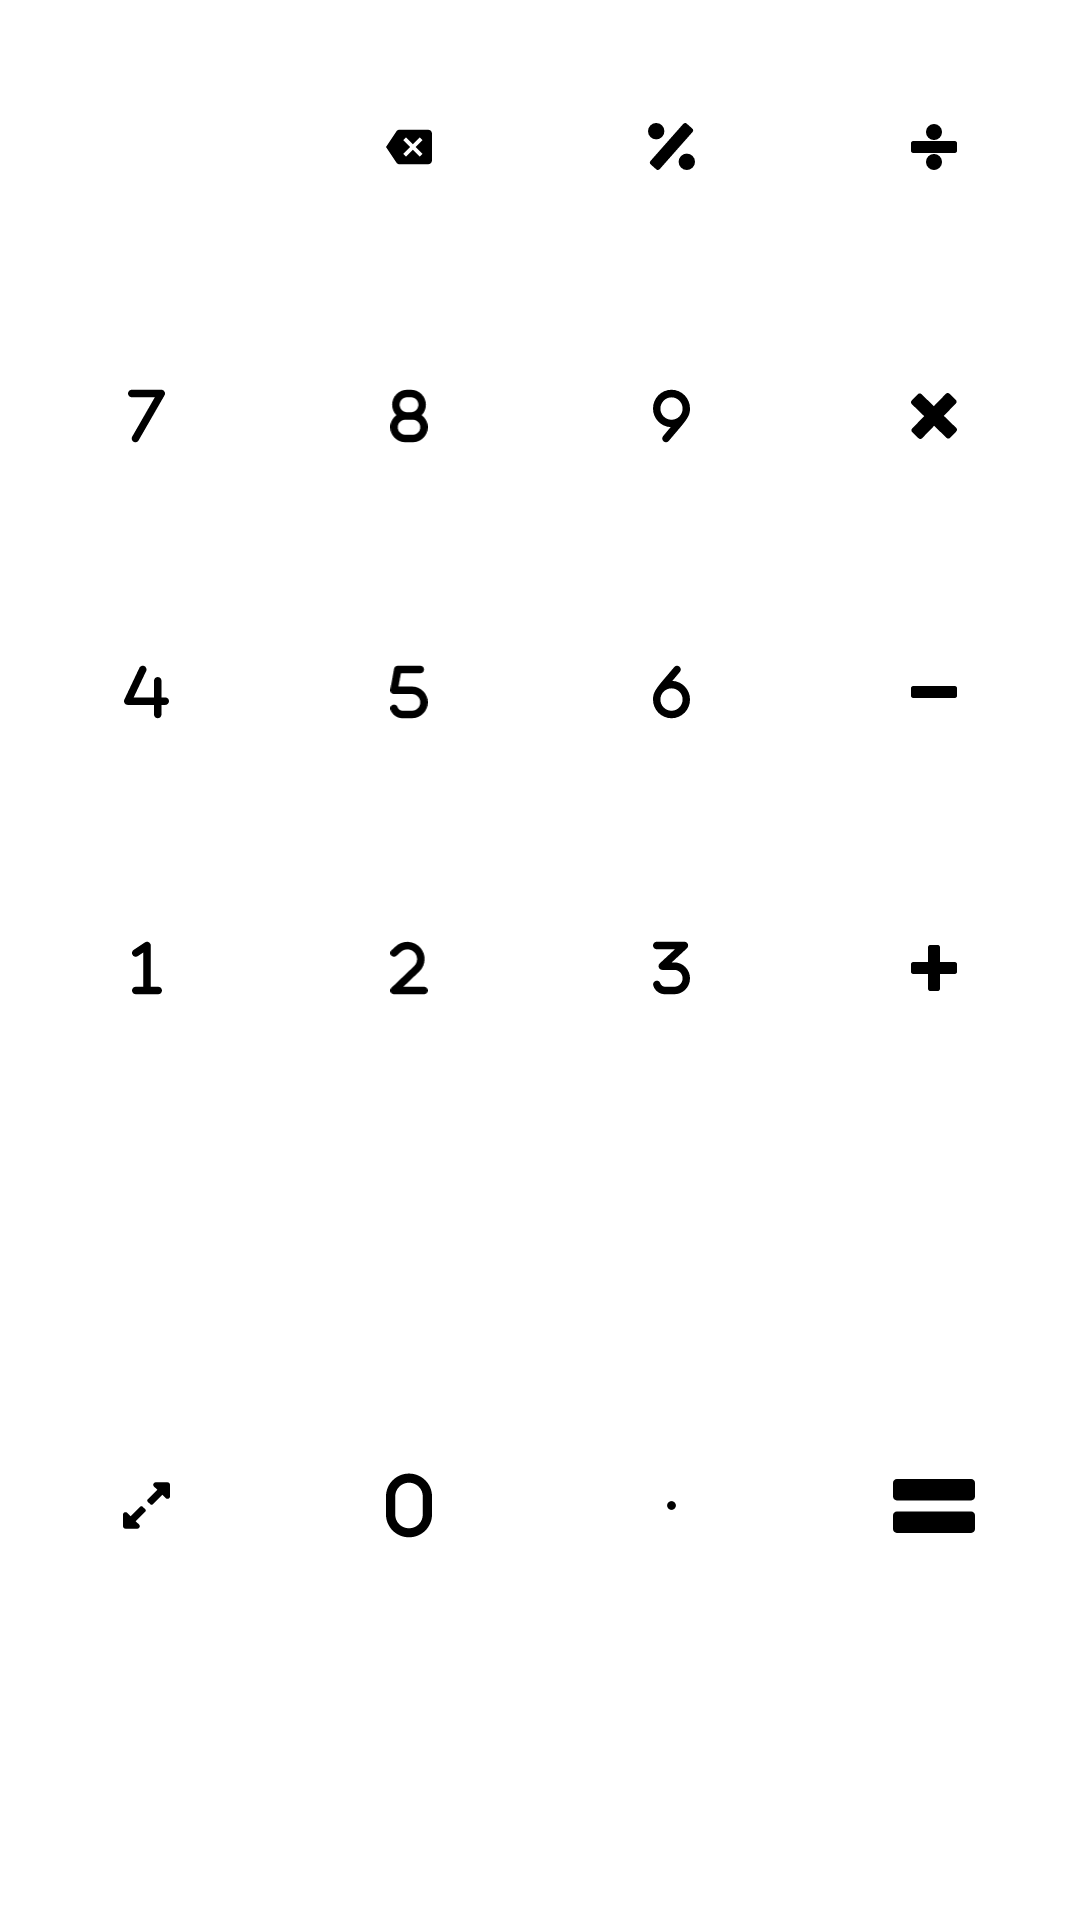

Locate icon controls on the screen. Image size 1080*1920, boxes as (x1, y1, x2, y2).
add: (911, 945, 957, 991)
clear: (386, 129, 432, 165)
divide: (911, 124, 957, 170)
equal: (893, 1479, 975, 1533)
expand: (123, 1482, 170, 1529)
multiply: (911, 393, 957, 439)
percentage: (648, 123, 695, 170)
subtract: (911, 686, 957, 698)
